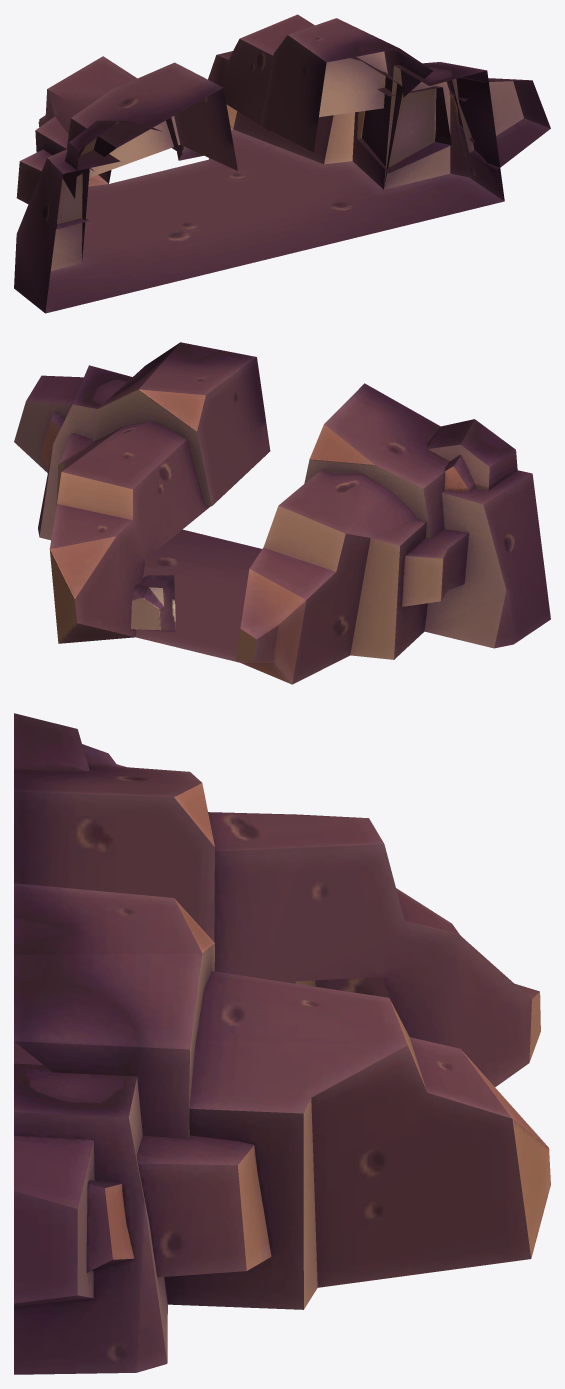
File: WaterFallTop.fbx
3 renders of one model, top to bottom at view 1: azimuth 30°, elevation 25°; view 2: azimuth 150°, elevation 25°; view 3: azimuth 270°, elevation 25°, orthographic. The views are drawn at different scales.
Visible parts, largest first — view 1: WaterFallTop; view 2: WaterFallTop; view 3: WaterFallTop.
Boxes of the visible parts, box(x1,y1,x2,y2) form: WaterFallTop: box(14, 14, 550, 313); WaterFallTop: box(14, 342, 550, 684); WaterFallTop: box(14, 713, 550, 1374).
Size of the model in its own units: 562 by 194 by 283.
